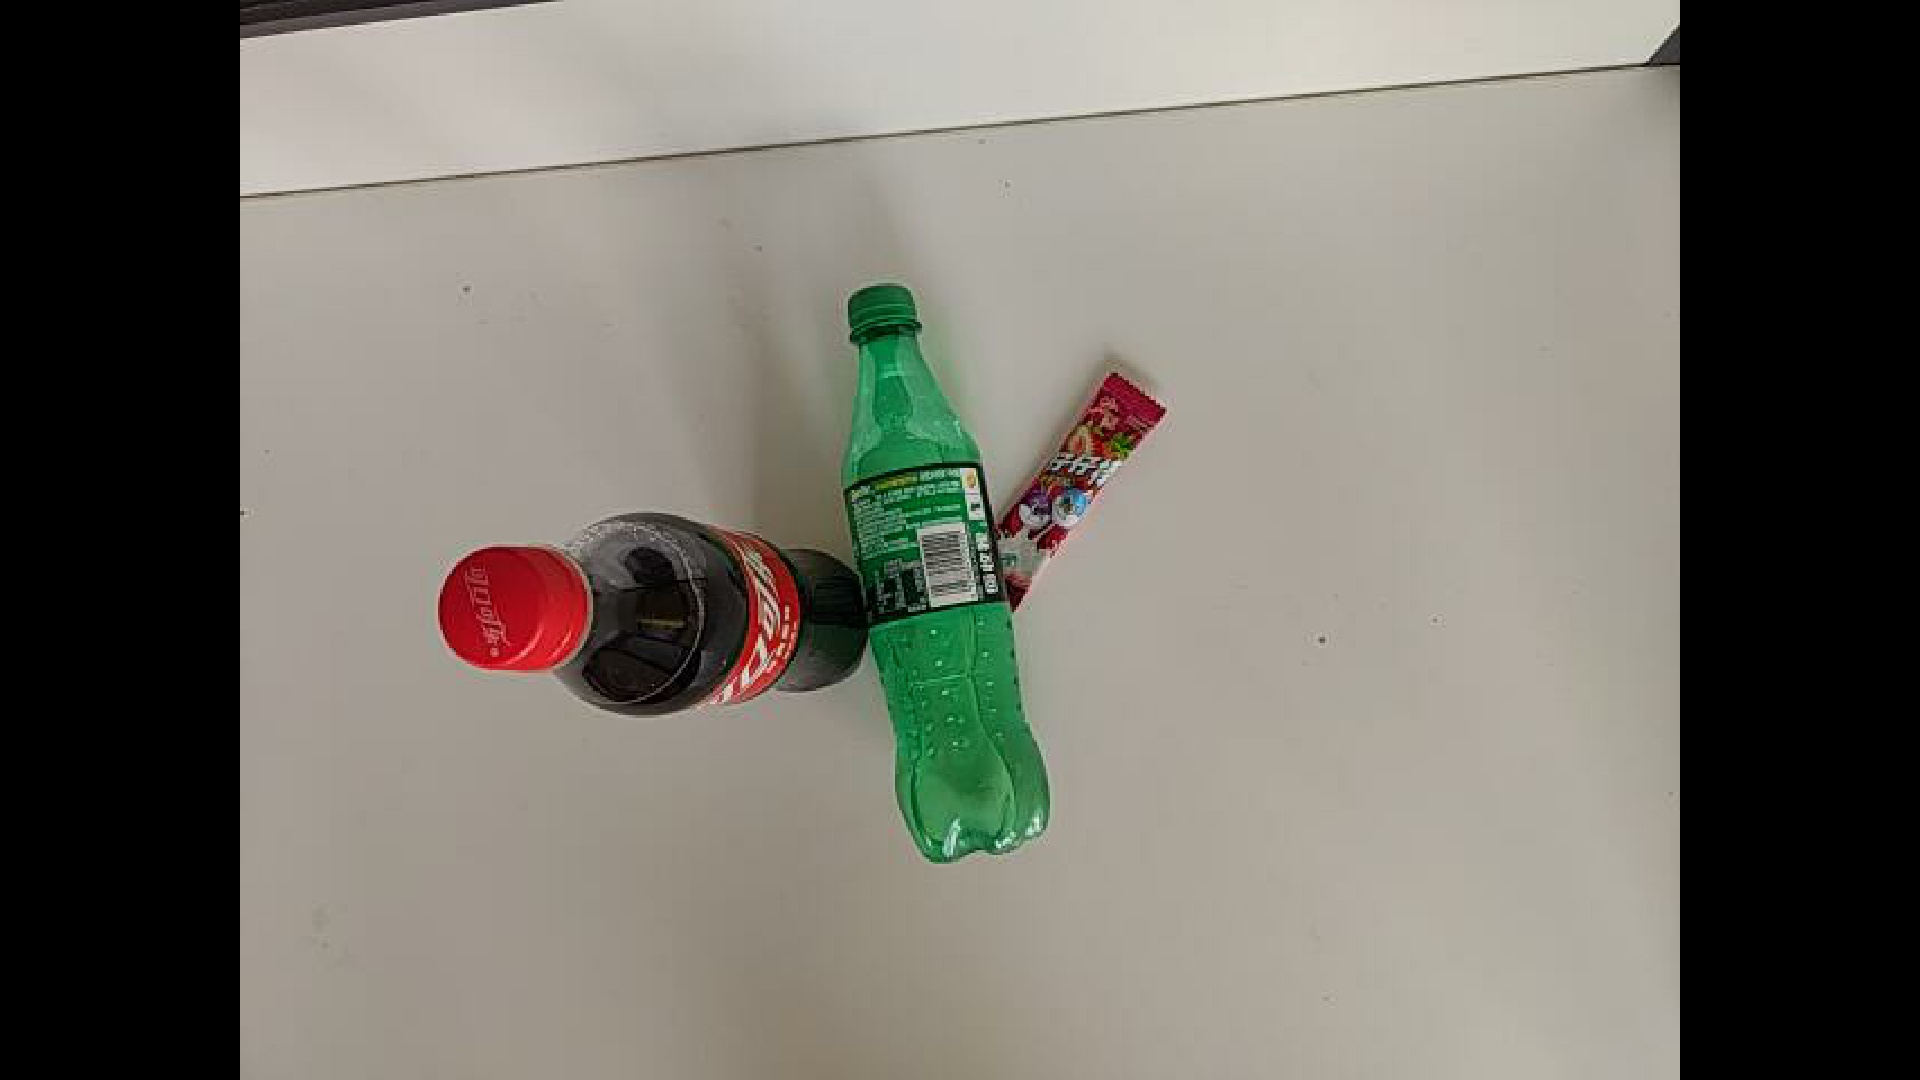cola: (435, 510, 870, 716)
sprite: (806, 280, 1139, 873)
sugar: (839, 365, 1171, 597)
